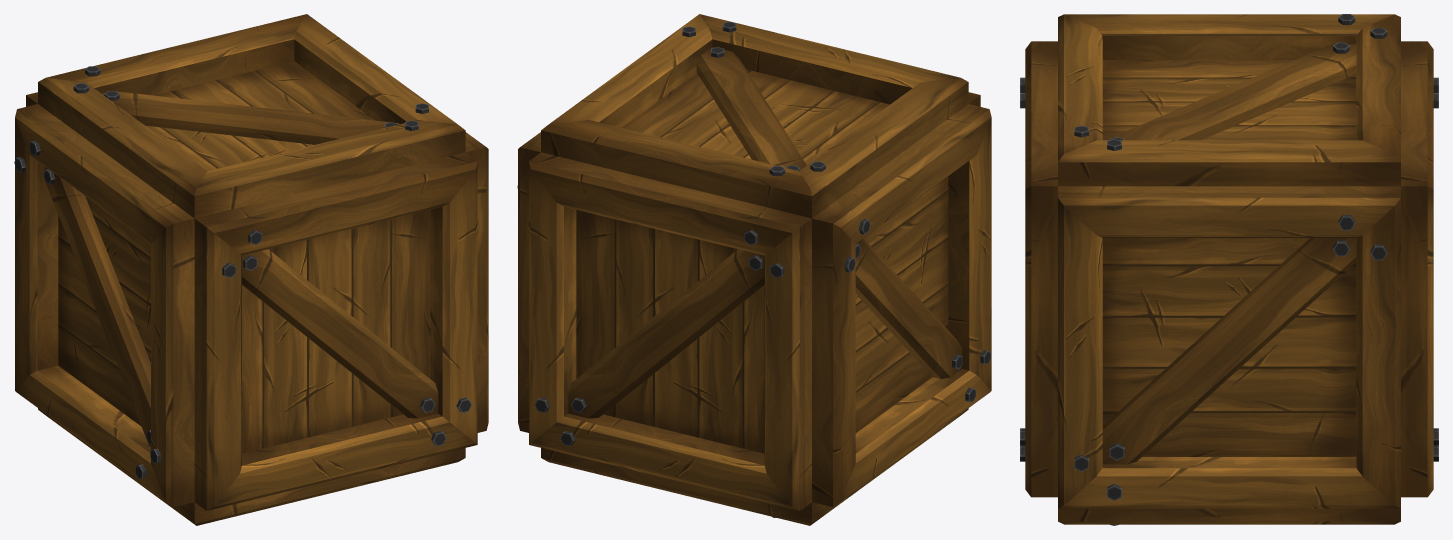
The model's file is create.gltf.
The picture shows the model from 3 angles, left to right: view 1: azimuth 30°, elevation 25°; view 2: azimuth 150°, elevation 25°; view 3: azimuth 270°, elevation 25°; orthographic projection. The views are drawn at different scales.
Parts seen in each view (by area): view 1: Crate02; view 2: Crate02; view 3: Crate02.
Part boxes in pixels (x1,y1,x2,y2): Crate02: [14, 14, 488, 525]; Crate02: [517, 14, 991, 525]; Crate02: [1020, 14, 1438, 525].
Size of the model in its own units: 0.8074 by 0.8074 by 0.8074.
Materials: 1 (1 with a texture image).
